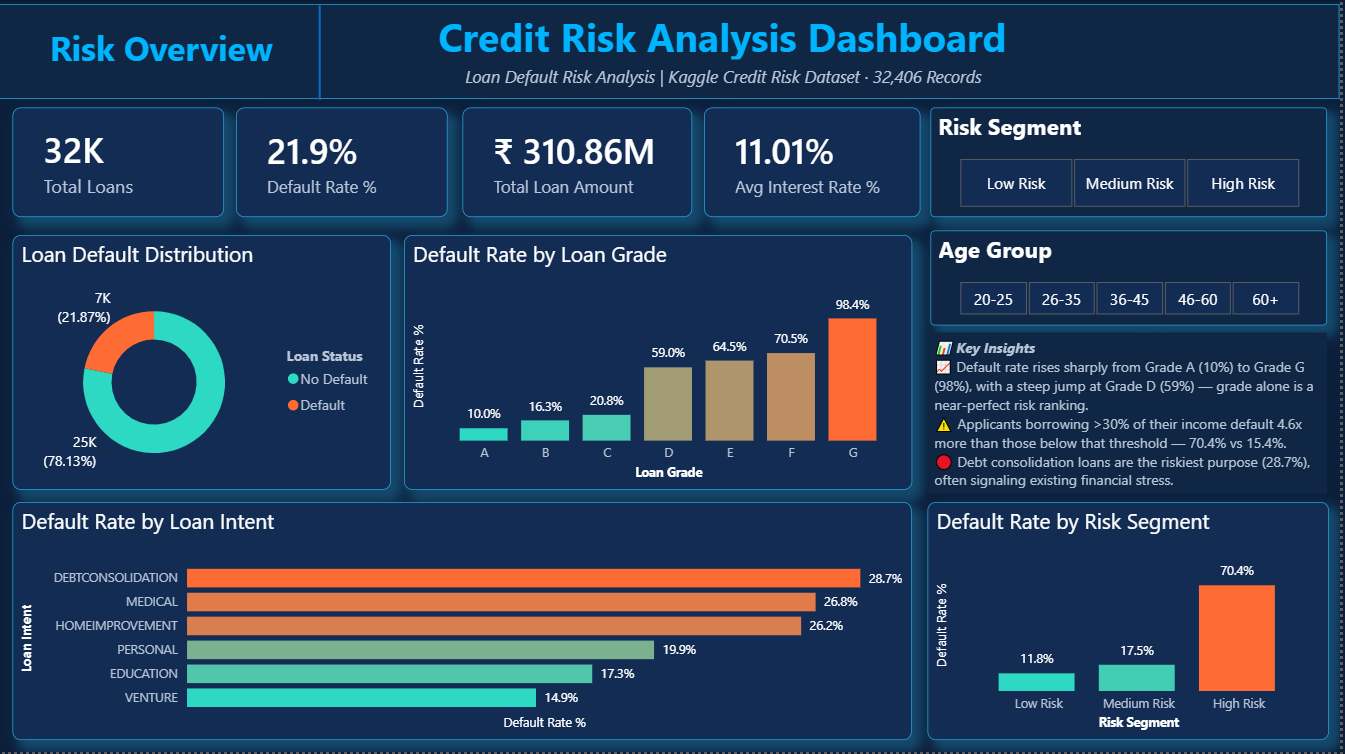

Layout of this report page (visuals, bound fields, positions):
{"tool":"powerbi","page":{"name":"Overview","canvas":[1280,720],"ordinal":0},"visuals":[{"type":"textbox","box":[0,6.1,1280,90.7],"z":1000},{"type":"cardVisual","fields":{"Data":["public loans_view.Total Loans"]},"box":[12.7,105,202,105],"z":2000},{"type":"cardVisual","fields":{"Data":["public loans_view.Default Rate %"]},"box":[225.9,105,202,105],"z":3000},{"type":"cardVisual","fields":{"Data":["public loans_view.Total Loan Amount"]},"box":[442.2,105,219.5,105],"z":4000},{"type":"cardVisual","fields":{"Data":["public loans_view.Avg Interest Rate %"]},"box":[672.8,105,206.8,105],"z":5000},{"type":"slicer","title":"Risk Segment","fields":{"Values":["public loans_view.risk_segment"]},"box":[889.2,105,378.6,105],"z":6000},{"type":"textbox","box":[434.2,58,515.4,36.6],"z":7000},{"type":"textbox","box":[3.2,19.9,303.8,74.8],"z":8000},{"type":"donutChart","title":"Loan Default Distribution","fields":{"Category":["public loans_view.loan_status_label"],"Y":["public loans_view.Total Loans"]},"box":[12.7,226.2,361.1,243.4],"z":9000},{"type":"clusteredColumnChart","title":"Default Rate by Loan Grade","fields":{"Category":["public loans_view.loan_grade"],"Y":["public loans_view.Default Rate %"]},"box":[386.5,226.2,485.1,243.4],"z":10000},{"type":"clusteredColumnChart","title":"Default Rate by Risk Segment","fields":{"Y":["public loans_view.Default Rate %"],"Category":["public loans_view.risk_segment"]},"box":[886,482,383.3,227.5],"z":11000},{"type":"clusteredBarChart","title":"Default Rate by Loan Intent","fields":{"Category":["public loans_view.loan_intent"],"Y":["public loans_view.Default Rate %"]},"box":[12.7,482,858.9,227.5],"z":12000},{"type":"slicer","title":"Age Group","fields":{"Values":["public loans_view.age_group"]},"box":[889.2,222.7,378.6,90.7],"z":13000},{"type":"shape","box":[288.3,7.1,36.7,90],"z":14000},{"type":"textbox","box":[887.6,319.7,380.2,154.3],"z":15000}]}

Visuals, with their boxes in screenshot pixels (x1, y1, x2, y2), scaled from the page's 1280x720 canvas onto the 1345x754 screenshot:
textbox: <box>0,6,1344,101</box>
cardVisual - public loans_view.Total Loans: <box>13,110,226,220</box>
cardVisual - public loans_view.Default Rate %: <box>237,110,450,220</box>
cardVisual - public loans_view.Total Loan Amount: <box>465,110,695,220</box>
cardVisual - public loans_view.Avg Interest Rate %: <box>707,110,924,220</box>
"Risk Segment" slicer: <box>934,110,1332,220</box>
textbox: <box>456,61,998,99</box>
textbox: <box>3,21,323,99</box>
"Loan Default Distribution" donutChart: <box>13,237,393,492</box>
"Default Rate by Loan Grade" clusteredColumnChart: <box>406,237,916,492</box>
"Default Rate by Risk Segment" clusteredColumnChart: <box>931,505,1334,743</box>
"Default Rate by Loan Intent" clusteredBarChart: <box>13,505,916,743</box>
"Age Group" slicer: <box>934,233,1332,328</box>
shape: <box>303,7,342,102</box>
textbox: <box>933,335,1332,496</box>
